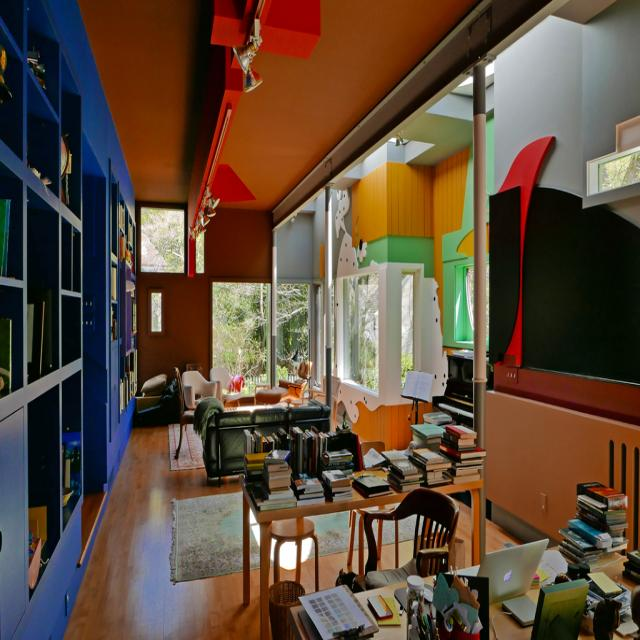chair: (362, 488, 460, 583), (172, 366, 224, 462)
desk: (289, 535, 639, 639)
laptop: (474, 539, 550, 603), (525, 576, 591, 638)
